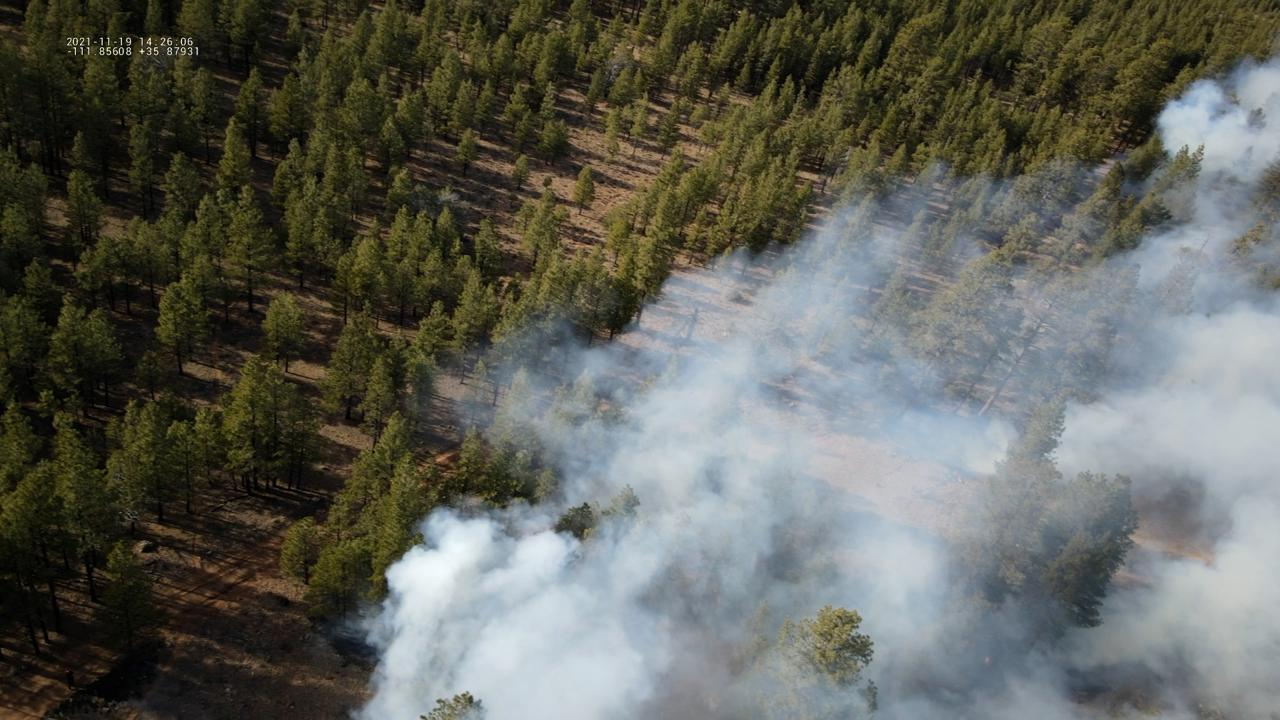smoke: (330, 51, 1280, 720)
